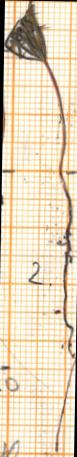flower: (3, 0, 50, 64)
root: (50, 172, 77, 455)
stem: (43, 63, 72, 172)
